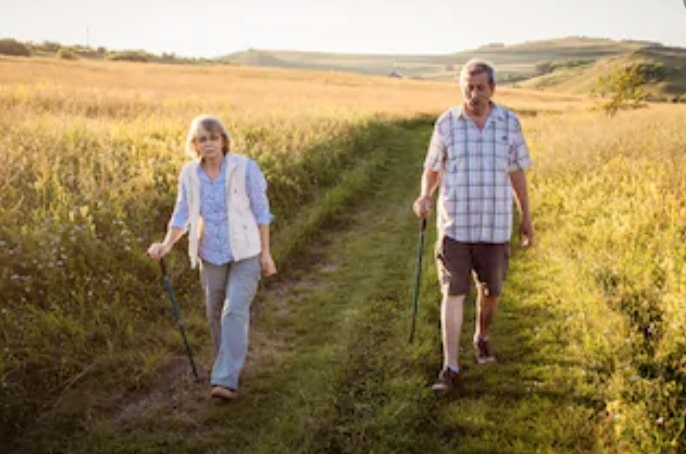Good: (148, 58, 533, 401)
